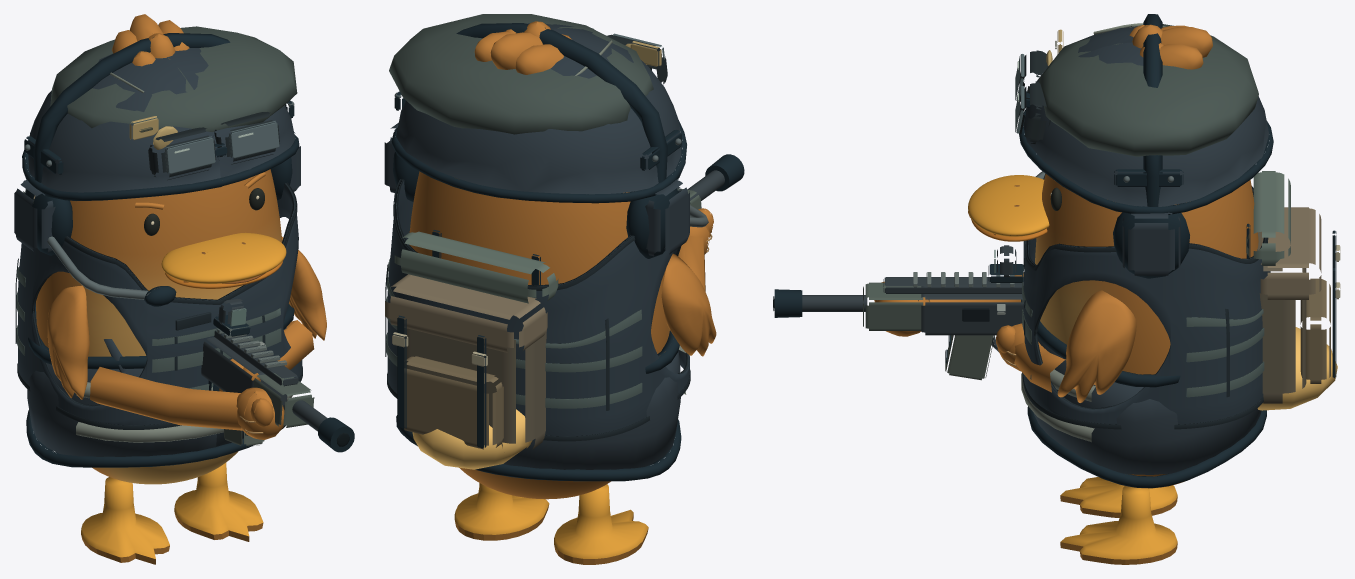
Rendered from duck-clean.glb.
3 renders of one model, left to right at view 1: azimuth 30°, elevation 25°; view 2: azimuth 150°, elevation 25°; view 3: azimuth 270°, elevation 25°, orthographic. The views are drawn at different scales.
Parts seen in each view (by area): view 1: duck_vest_mesh, duck_torso_mesh, duck_helmet_mesh, duck_weapon_mesh, duck_beret_mesh, duck_vestPadded_mesh, duck_headset_mesh, duck_beak_mesh, duck_leftFoot_mesh, duck_goggles_mesh, duck_rightFoot_mesh, duck_leftArm_mesh (+3 smaller); view 2: duck_pack_mesh, duck_vest_mesh, duck_helmet_mesh, duck_beret_mesh, duck_torso_mesh, duck_vestPadded_mesh, duck_headset_mesh, duck_leftFoot_mesh, duck_rightFoot_mesh, duck_leftArm_mesh, duck_tail_mesh, duck_weapon_mesh (+2 smaller); view 3: duck_vest_mesh, duck_beret_mesh, duck_weapon_mesh, duck_helmet_mesh, duck_vestPadded_mesh, duck_pack_mesh, duck_torso_mesh, duck_headset_mesh, duck_rightArm_mesh, duck_rightFoot_mesh, duck_beak_mesh, duck_leftFoot_mesh (+3 smaller).
Boxes of the visible parts, x1,y1,x2,y2 form: duck_vest_mesh: [15, 182, 302, 429]; duck_torso_mesh: [36, 169, 282, 484]; duck_helmet_mesh: [22, 48, 299, 200]; duck_weapon_mesh: [90, 298, 354, 452]; duck_beret_mesh: [50, 26, 297, 149]; duck_vestPadded_mesh: [26, 303, 294, 467]; duck_headset_mesh: [14, 33, 300, 306]; duck_beak_mesh: [161, 232, 286, 288]; duck_leftFoot_mesh: [81, 477, 169, 564]; duck_goggles_mesh: [148, 112, 279, 180]; duck_rightFoot_mesh: [174, 462, 263, 541]; duck_leftArm_mesh: [47, 285, 89, 399]; duck_pack_mesh: [385, 230, 558, 449]; duck_vest_mesh: [385, 179, 690, 441]; duck_helmet_mesh: [391, 23, 686, 203]; duck_beret_mesh: [389, 14, 653, 134]; duck_torso_mesh: [409, 171, 669, 499]; duck_vestPadded_mesh: [396, 330, 686, 481]; duck_headset_mesh: [384, 23, 708, 258]; duck_leftFoot_mesh: [554, 484, 648, 564]; duck_rightFoot_mesh: [454, 483, 549, 540]; duck_leftArm_mesh: [661, 253, 716, 356]; duck_tail_mesh: [412, 409, 532, 469]; duck_weapon_mesh: [677, 154, 744, 291]; duck_vest_mesh: [1021, 173, 1270, 429]; duck_beret_mesh: [1038, 24, 1258, 156]; duck_weapon_mesh: [773, 245, 1065, 392]; duck_helmet_mesh: [1019, 23, 1273, 214]; duck_vestPadded_mesh: [1021, 321, 1266, 488]; duck_pack_mesh: [1246, 171, 1340, 403]; duck_torso_mesh: [1035, 174, 1258, 488]; duck_headset_mesh: [1035, 14, 1189, 278]; duck_rightArm_mesh: [1057, 290, 1136, 402]; duck_rightFoot_mesh: [1060, 486, 1177, 564]; duck_beak_mesh: [968, 175, 1049, 241]; duck_leftFoot_mesh: [1060, 477, 1177, 517].
Bounding box in the file's own units: 1.15 × 2 × 2.06.
